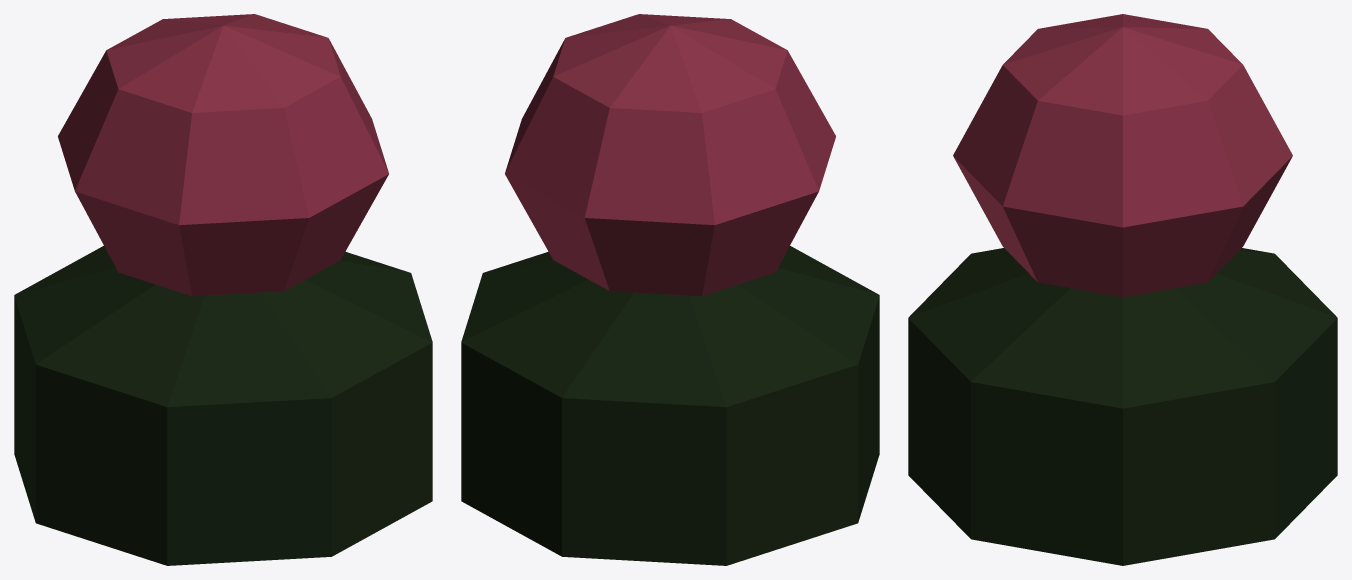
File: HydrangeaShrub_1.obj
3 renders of one model, left to right at view 1: azimuth 30°, elevation 25°; view 2: azimuth 150°, elevation 25°; view 3: azimuth 270°, elevation 25°, orthographic.
Visible parts, largest first — view 1: HydrangeaShrub_1; view 2: HydrangeaShrub_1; view 3: HydrangeaShrub_1.
Boxes of the visible parts, x1=… form: HydrangeaShrub_1: x1=14, y1=14, x2=432, y2=565; HydrangeaShrub_1: x1=461, y1=14, x2=879, y2=565; HydrangeaShrub_1: x1=908, y1=14, x2=1337, y2=565.
Size of the model in its own units: 0.6062 by 0.82 by 0.6062.
